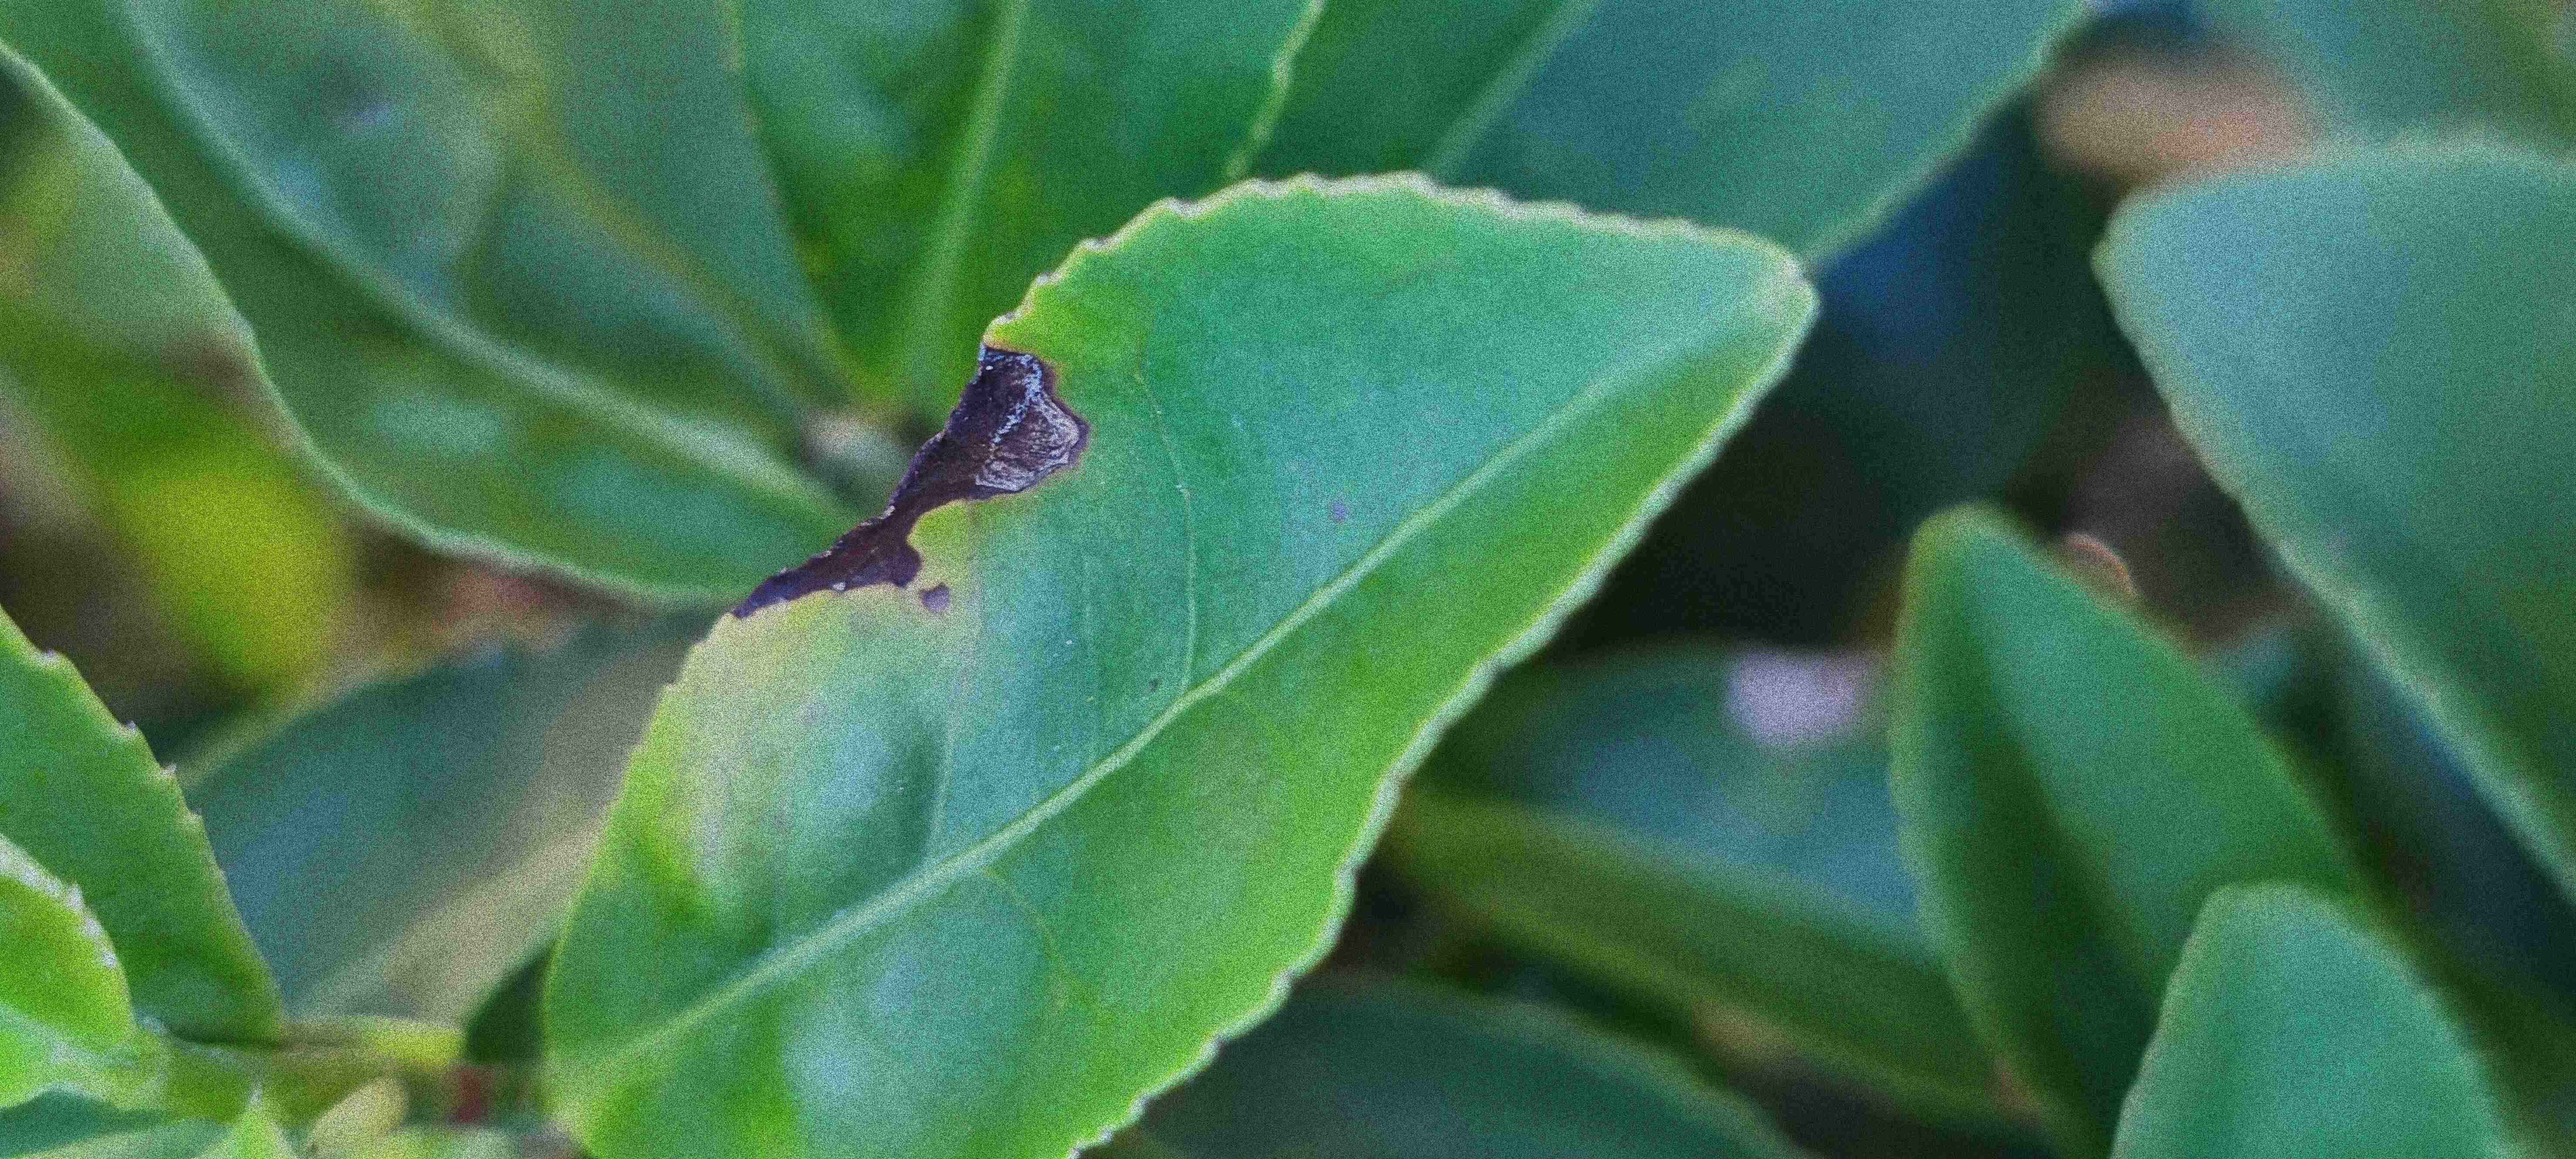tanju_high: (532, 169, 1824, 1157)
